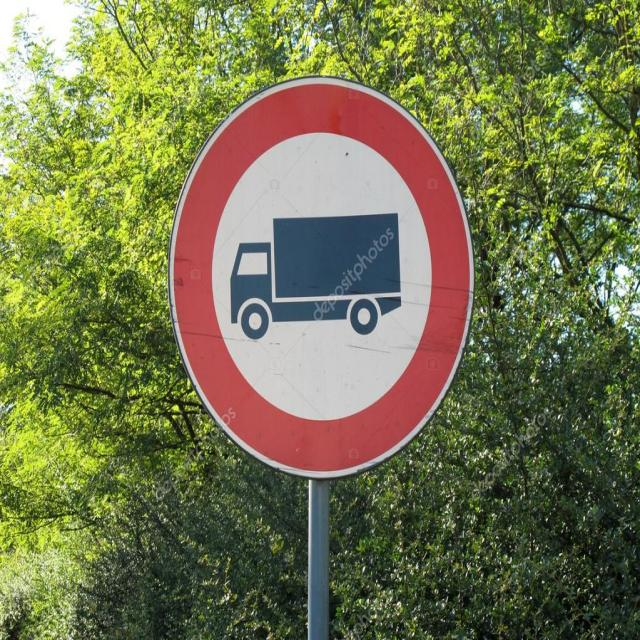do_not_enter: (166, 76, 482, 480)
